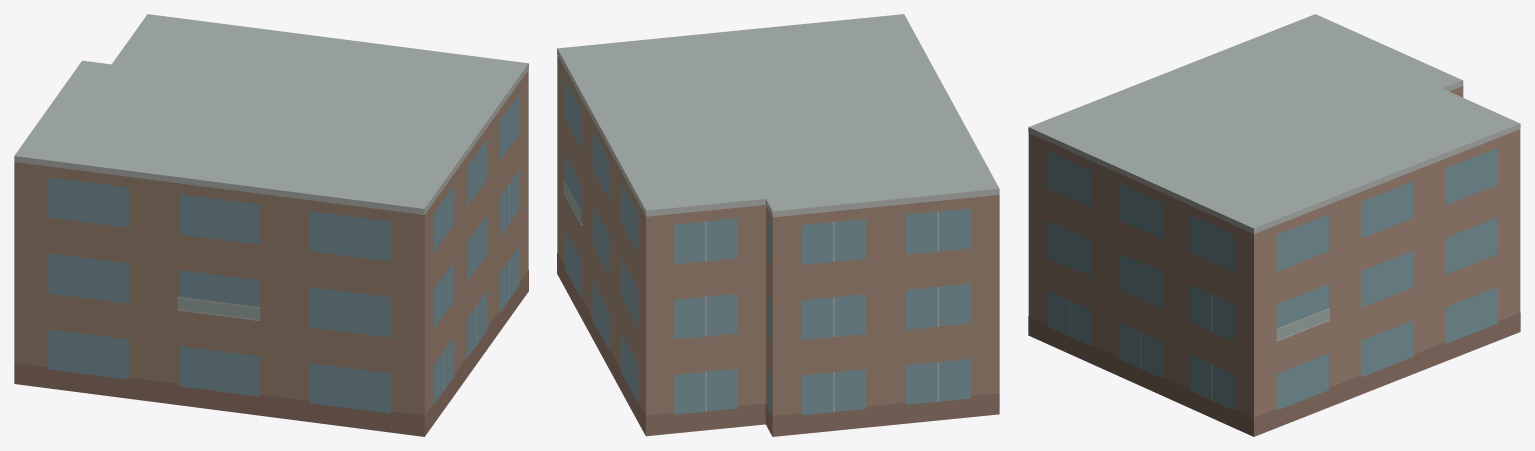
The model's file is survey-upis-33035260.glb.
3 renders of one model, left to right at view 1: azimuth 30°, elevation 25°; view 2: azimuth 150°, elevation 25°; view 3: azimuth 270°, elevation 25°, orthographic. The views are drawn at different scales.
Parts seen in each view (by area): view 1: survey-upis-33035260.tmp; view 2: survey-upis-33035260.tmp; view 3: survey-upis-33035260.tmp.
Boxes of the visible parts, box(x1,y1,x2,y2) form: survey-upis-33035260.tmp: box(14, 14, 528, 436); survey-upis-33035260.tmp: box(557, 14, 999, 436); survey-upis-33035260.tmp: box(1028, 14, 1520, 436).
Size of the model in its own units: 20.21 by 9.15 by 19.59.
